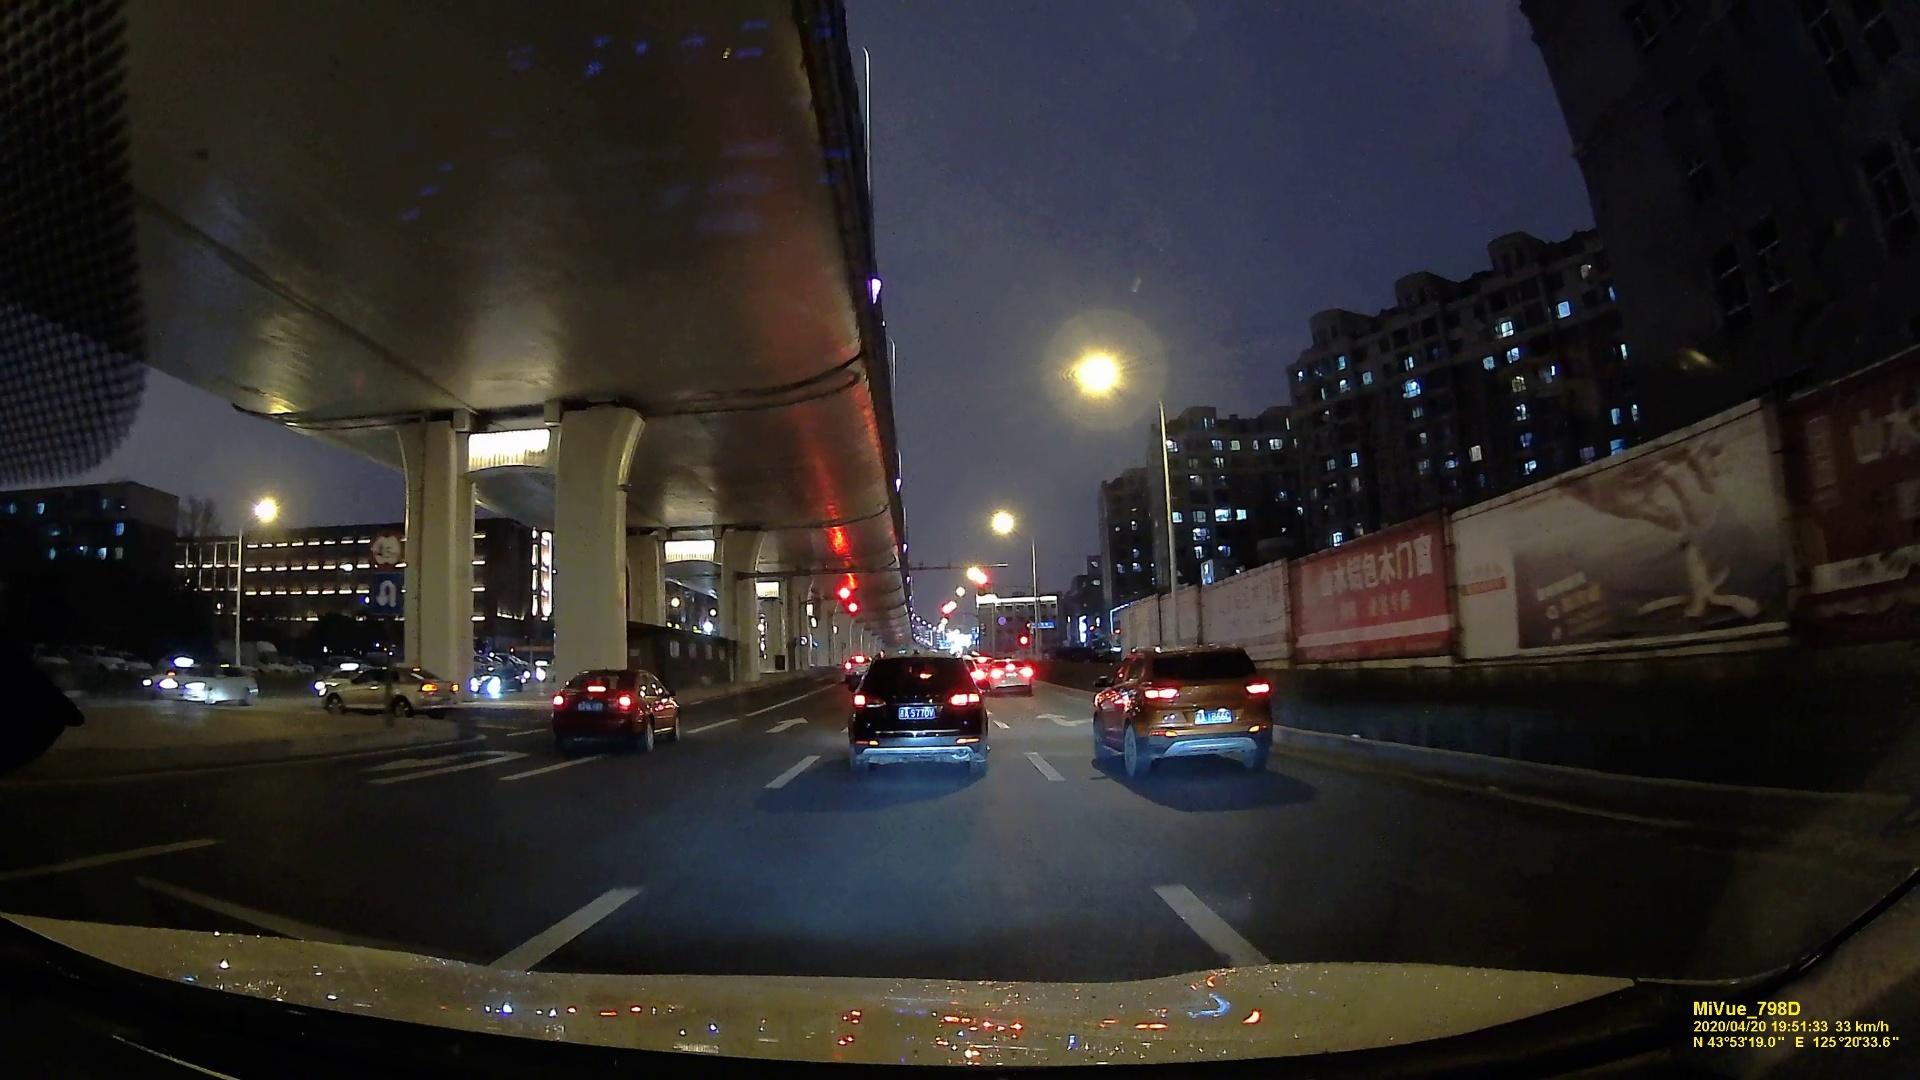traffic_sign: (367, 531, 404, 564), (368, 574, 401, 611)
vehicle: (1092, 644, 1276, 777), (848, 647, 993, 773), (545, 665, 682, 749), (324, 665, 462, 717), (160, 659, 258, 707), (984, 658, 1033, 694), (465, 667, 524, 691)
